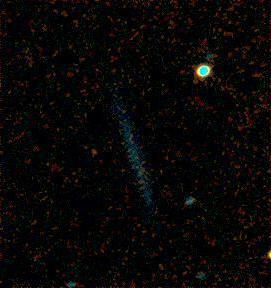star: (77, 137, 107, 167)
